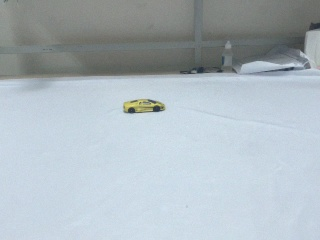bottle: (221, 41, 233, 73)
toy_car: (123, 99, 166, 114)
